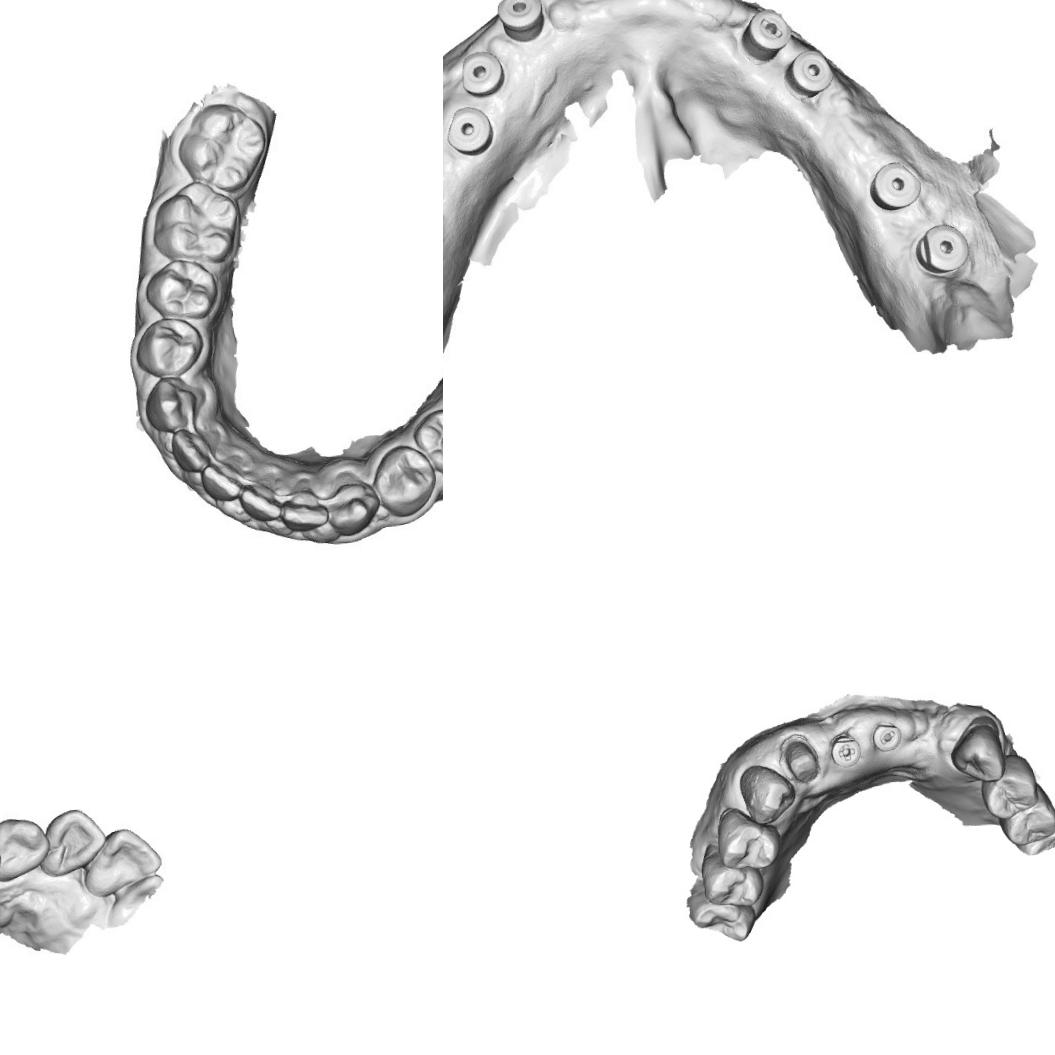canine: (736, 761, 798, 826), (142, 373, 209, 433), (947, 721, 1007, 785), (0, 815, 48, 884), (328, 475, 382, 535)
crown: (779, 732, 824, 790)
implant: (861, 148, 940, 226), (905, 210, 979, 284), (778, 40, 844, 108), (443, 102, 496, 159), (455, 45, 508, 99), (492, 0, 546, 46)
implant_minus: (734, 0, 792, 65), (870, 718, 903, 754)
implant_plus: (827, 729, 863, 769)
incisor: (86, 823, 166, 902), (44, 806, 101, 876), (278, 475, 328, 533), (238, 472, 286, 528), (172, 420, 220, 474), (204, 452, 248, 500)
molar: (174, 102, 268, 192), (152, 181, 244, 264), (684, 892, 756, 944)
premolar: (374, 444, 442, 518), (145, 255, 219, 322), (714, 805, 782, 871), (134, 318, 204, 376), (698, 852, 767, 910), (980, 760, 1039, 822), (996, 787, 1055, 848), (418, 413, 443, 477)
